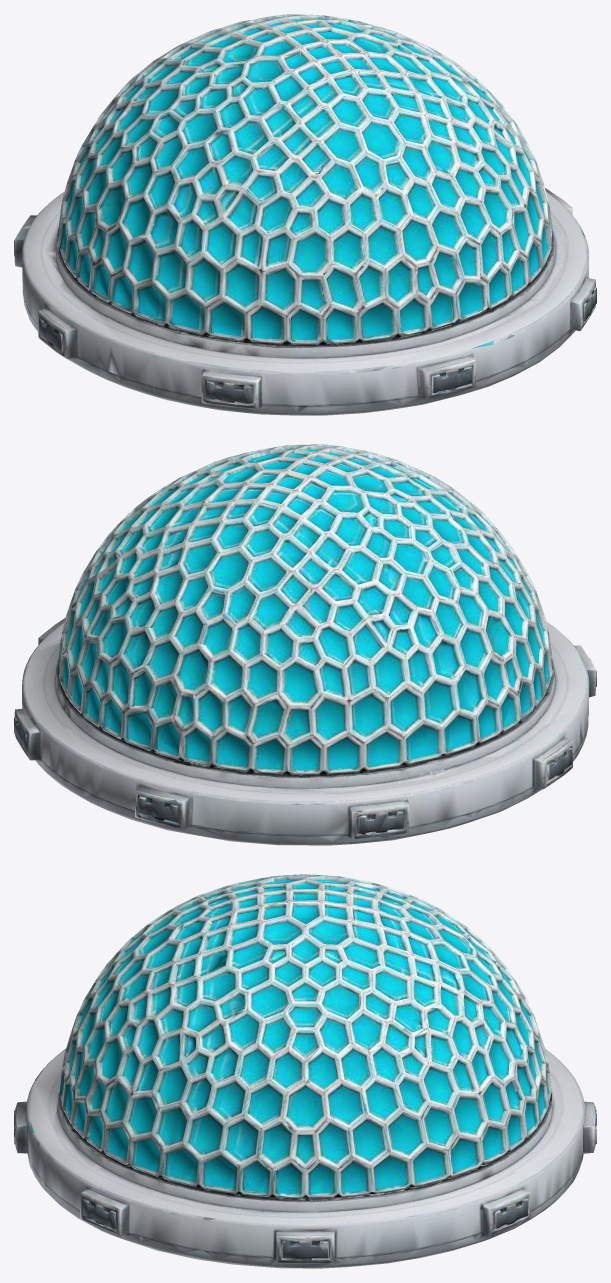
File: dome.glb
3 views of the same model, one above another, from view 1: azimuth 30°, elevation 25°; view 2: azimuth 150°, elevation 25°; view 3: azimuth 270°, elevation 25° (orthographic).
Visible parts, largest first — view 1: dome; view 2: dome; view 3: dome.
Part boxes in pixels (box(x1,y1,x2,y2)): dome: box(14, 14, 596, 415); dome: box(14, 444, 596, 845); dome: box(14, 874, 596, 1268).
Bounding box in the file's own units: 1 × 0.4898 × 0.9999.
Materials: 1 (1 with a texture image).
